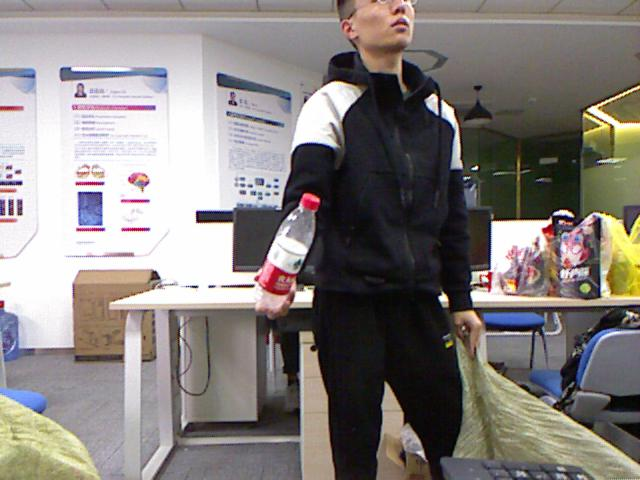plastic: (255, 195, 319, 316)
